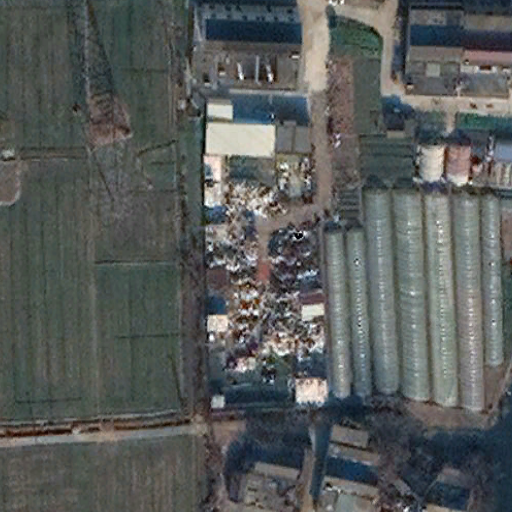msw: (204, 178, 328, 375)
